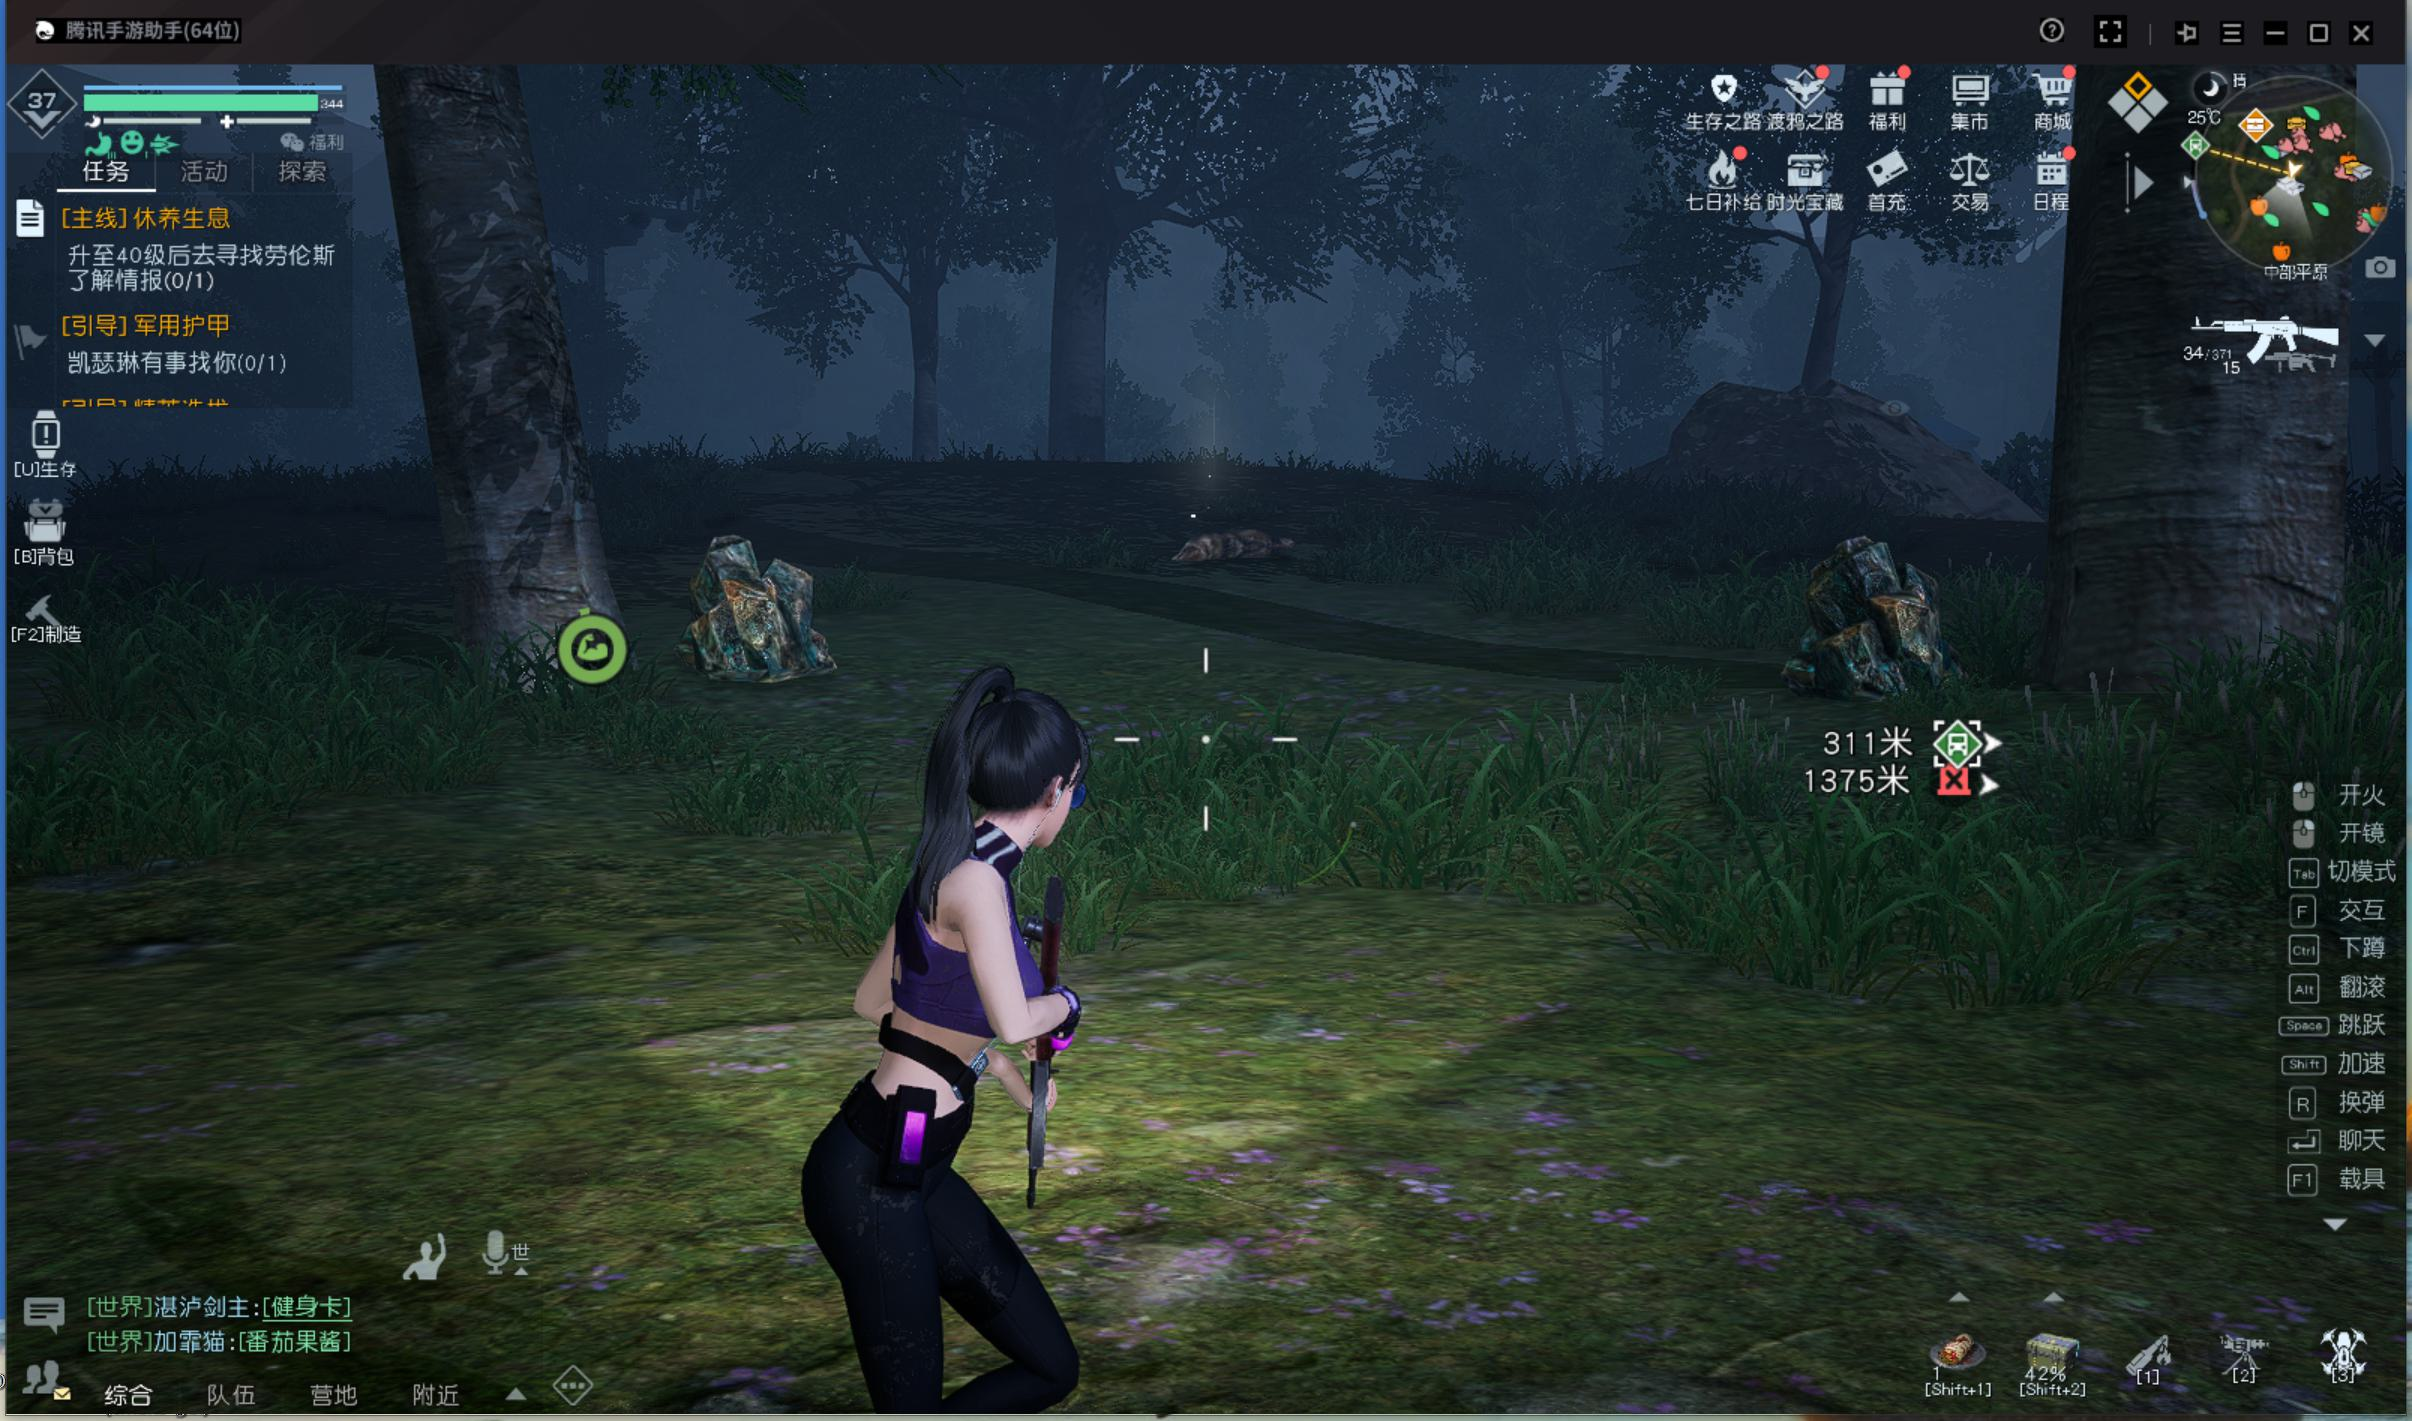stone: (653, 509, 859, 702), (1779, 524, 1952, 705)
tree: (2043, 208, 2376, 756), (386, 123, 622, 689)
